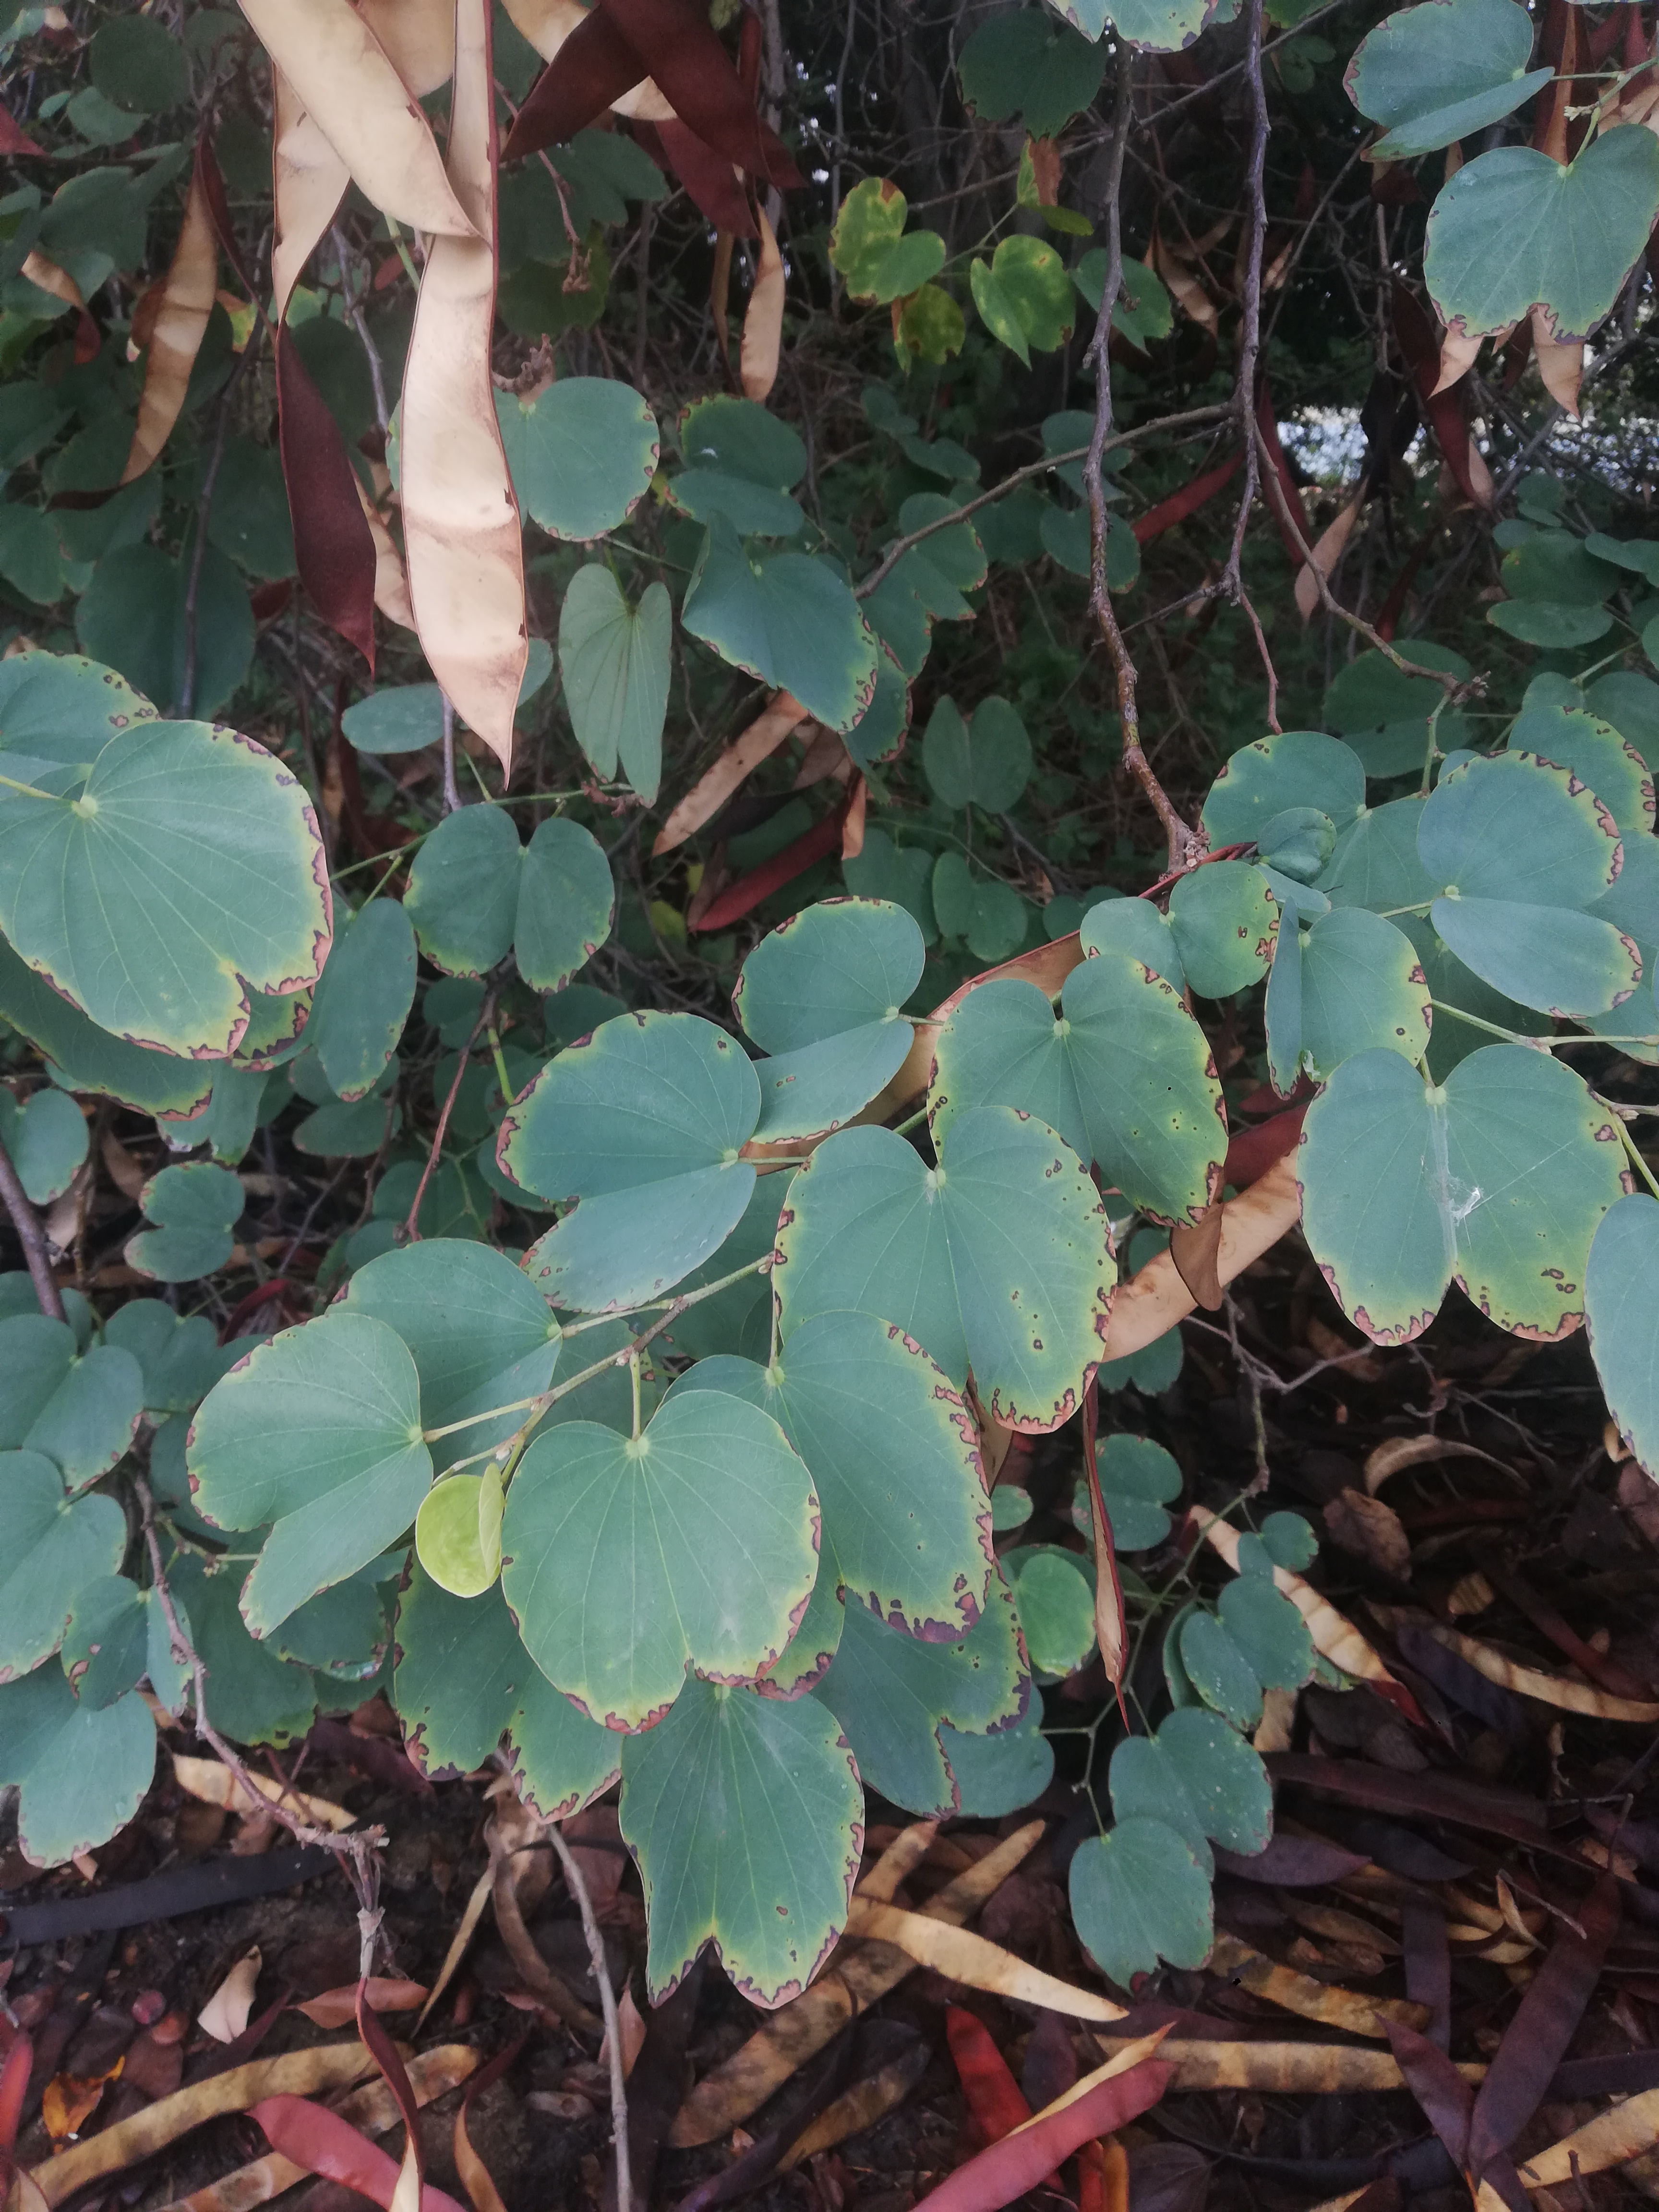healthy: (484, 1366, 828, 1752)
nothealthy: (648, 1278, 1011, 1679), (7, 700, 349, 1055), (1284, 1035, 1622, 1352), (167, 1298, 444, 1646), (917, 948, 1229, 1251), (490, 996, 775, 1322), (615, 1665, 870, 2015), (1406, 756, 1647, 1043), (706, 888, 941, 1155), (1413, 129, 1659, 345)
